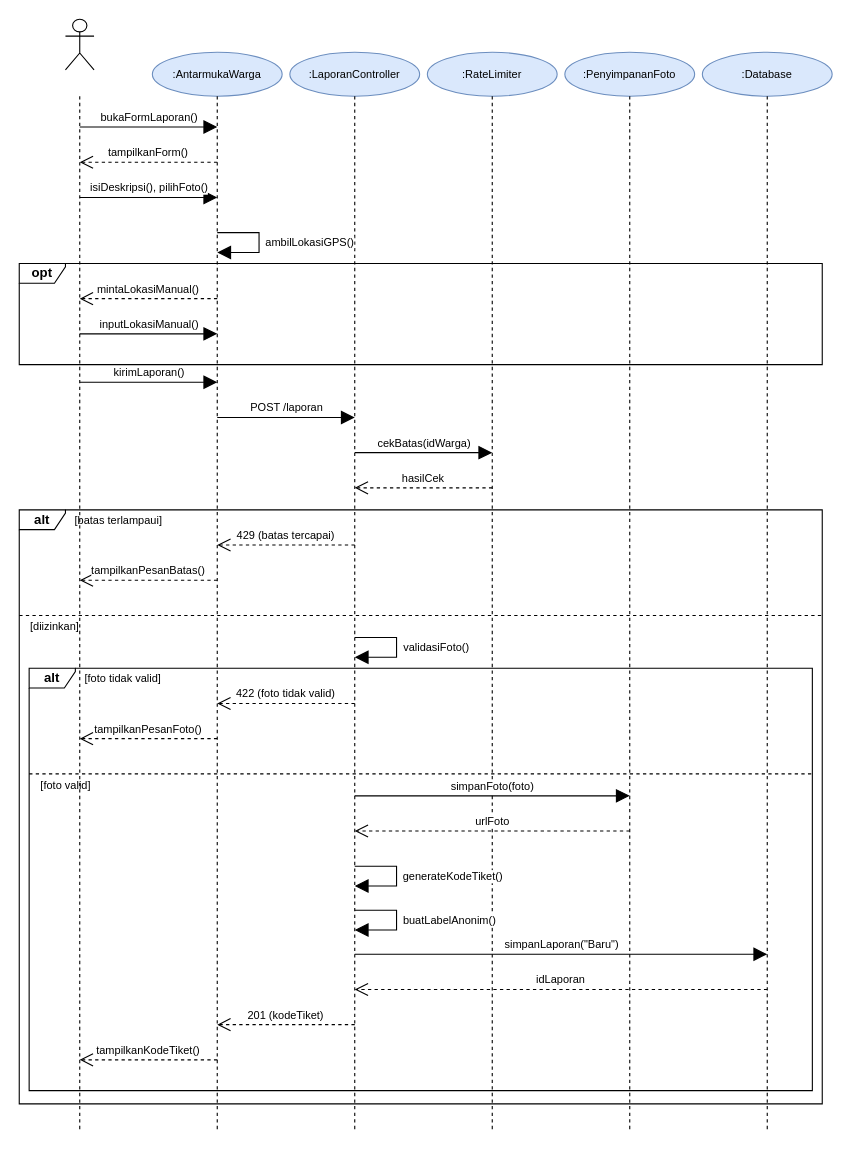
The diagram is 851 pixels wide and 1153 high, and some of its shapes have lost their labels. The centre of each missing label's shape, as x and y in pixels:
[GPS tidak aktif]: the point at 113,272
Warga: the point at 79,44
